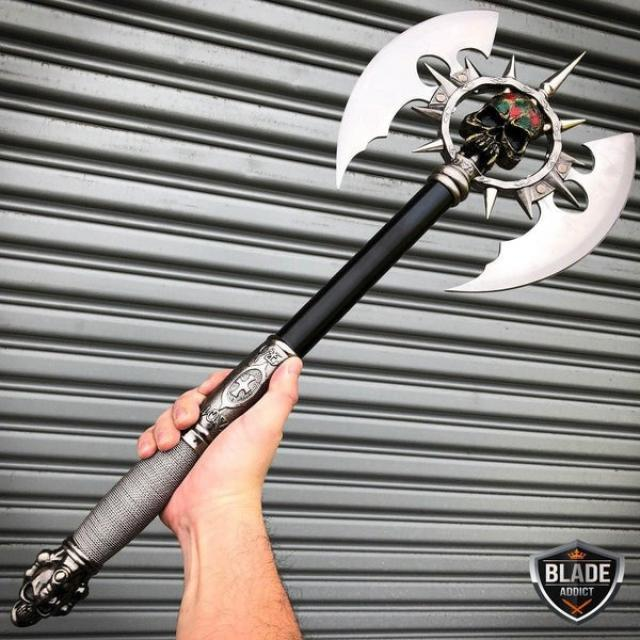axe: (14, 5, 639, 624)
